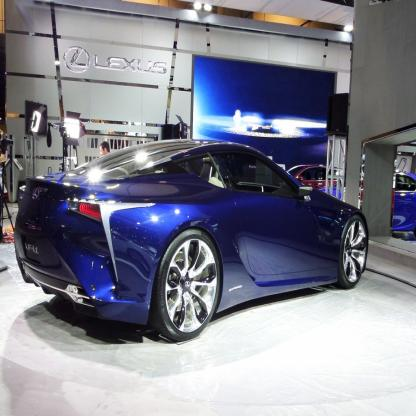Car: (15, 141, 369, 343), (287, 165, 365, 212), (393, 170, 416, 238)
